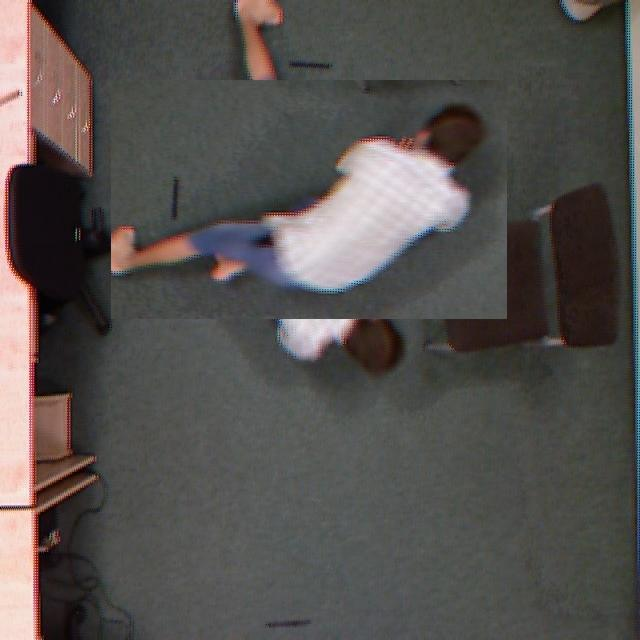Fall: (105, 124, 504, 330)
